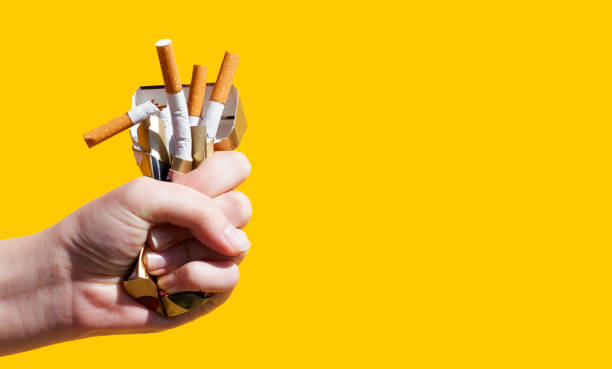cigarette: (83, 38, 249, 319), (154, 39, 196, 163), (81, 98, 160, 148), (203, 48, 242, 137), (185, 64, 209, 125), (159, 102, 175, 154)
